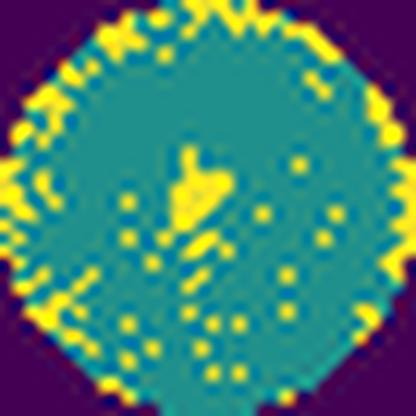Center: (159, 148, 239, 264)
